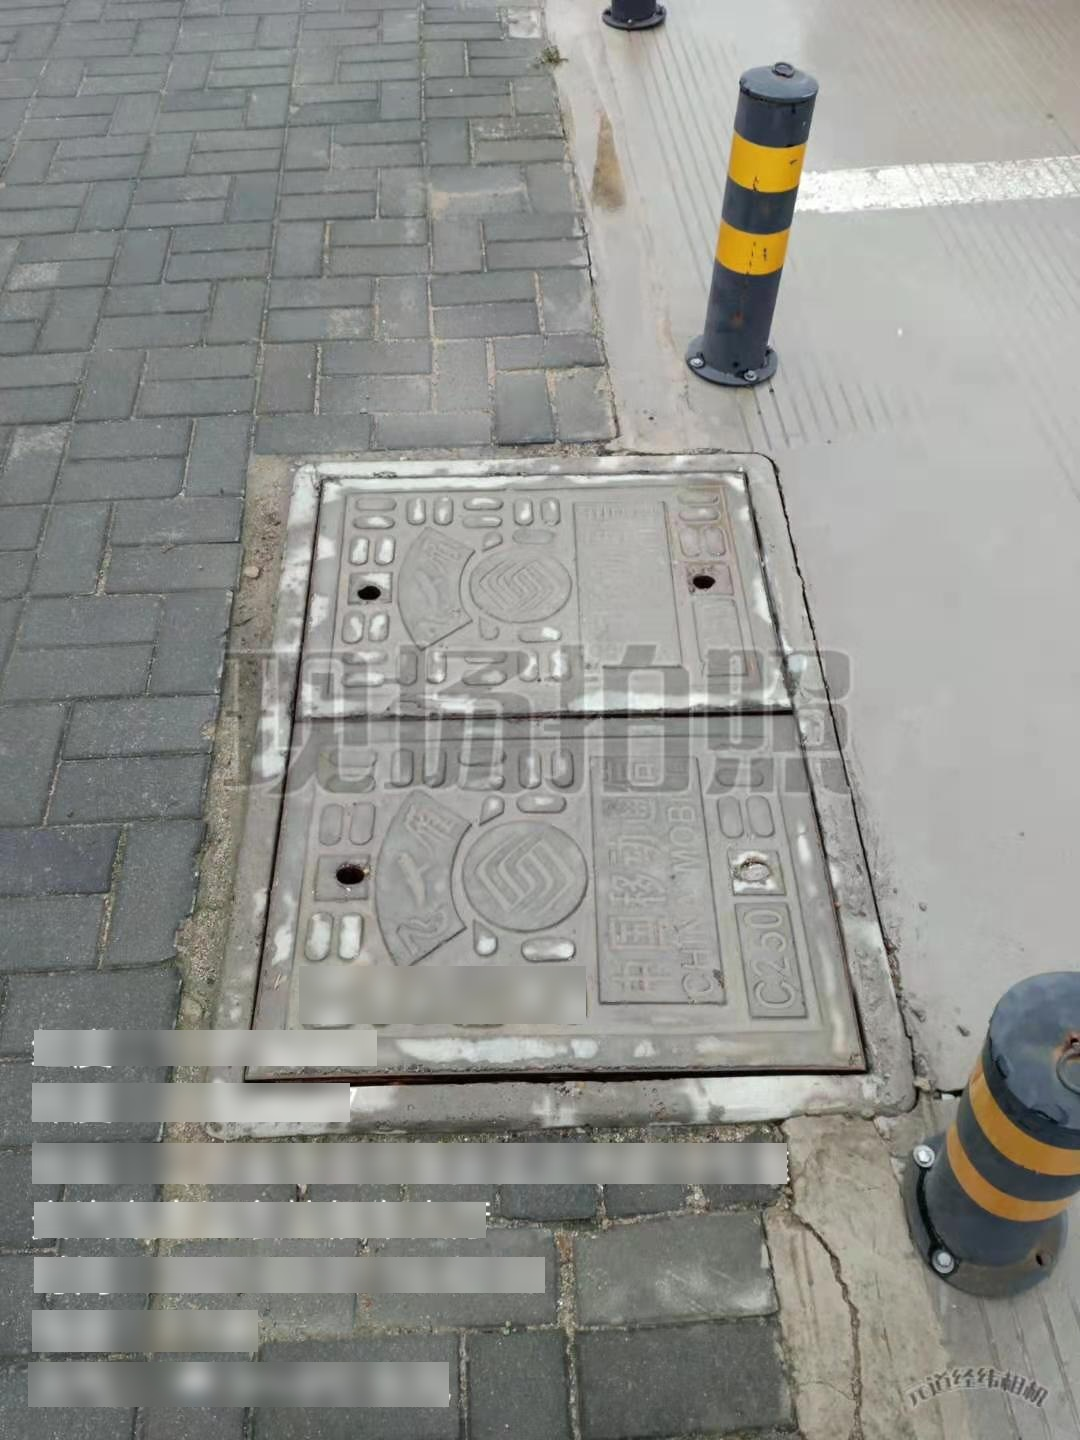well: (218, 444, 913, 1129)
